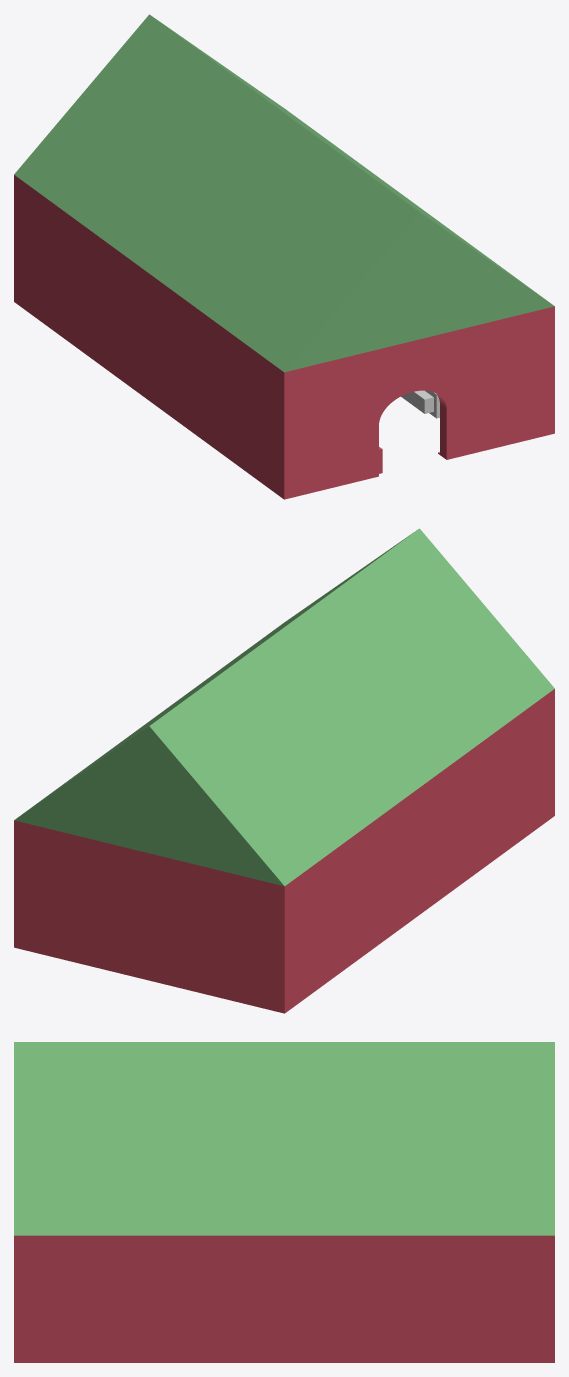
Rendered from ninahouse.fbx.
The picture shows the model from 3 angles, top to bottom: view 1: azimuth 30°, elevation 25°; view 2: azimuth 150°, elevation 25°; view 3: azimuth 270°, elevation 25°; orthographic projection.
Visible parts, largest first — view 1: Mesh_Mesh_head_geo.001_lambert2SG.001; view 2: Mesh_Mesh_head_geo.001_lambert2SG.001; view 3: Mesh_Mesh_head_geo.001_lambert2SG.001.
Boxes of the visible parts, left/top/right/bottom form: Mesh_Mesh_head_geo.001_lambert2SG.001: left=14, top=14, right=554, bottom=499; Mesh_Mesh_head_geo.001_lambert2SG.001: left=14, top=528, right=554, bottom=1013; Mesh_Mesh_head_geo.001_lambert2SG.001: left=14, top=1042, right=554, bottom=1362.
Bounding box in the file's own units: 5900 × 5300 × 10200.
